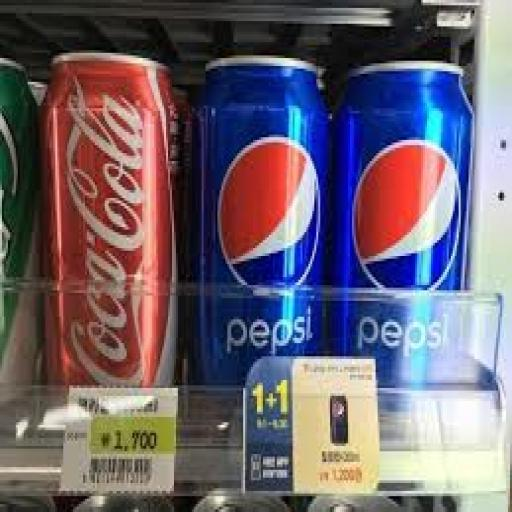Coca: (36, 48, 187, 442)
